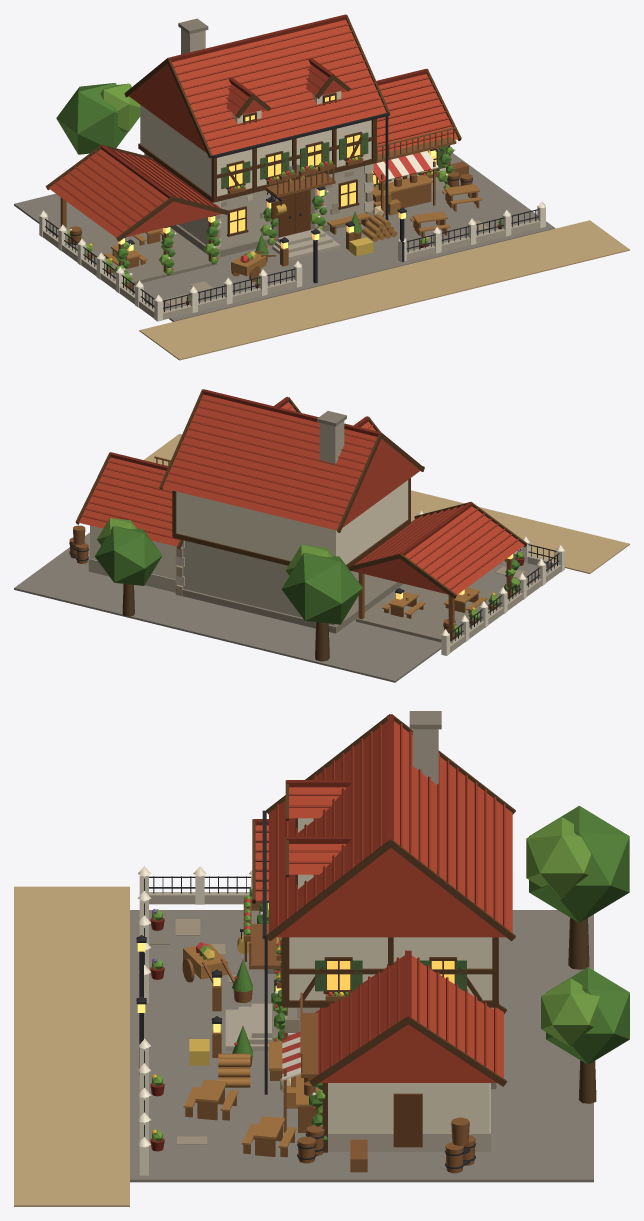
File: inn.glb
The picture shows the model from 3 angles, top to bottom: view 1: azimuth 30°, elevation 25°; view 2: azimuth 150°, elevation 25°; view 3: azimuth 270°, elevation 25°; orthographic projection. The views are drawn at different scales.
Parts seen in each view (by area): view 1: street-paving, main-roof, yard-cobbles, terrace-roof, upper-floor, tree-crown (×2), ground-floor, wing-roof, terrace-deck, door, dormer-roof (×2), main-roof-ridge (+10 smaller); view 2: main-roof, yard-cobbles, upper-floor, tree-crown (×3), terrace-roof, ground-floor, street-paving, wing-roof, main-roof-tiles (×8), terrace-deck, plinth, floor-beam (+7 smaller); view 3: yard-cobbles, street-paving, main-roof, tree-crown (×4), wing-roof, wing-walls, upper-floor, main-roof-bargeboard (×2), dormer-roof (×2), wing-base, wing-roof-bargeboard (×2), tree-trunk (×2) (+7 smaller).
Boxes of the visible parts, left/top/right/bottom form: street-paving: left=139, top=220, right=629, bottom=360; main-roof: left=129, top=20, right=386, bottom=155; yard-cobbles: left=14, top=153, right=555, bottom=321; terrace-roof: left=48, top=149, right=221, bottom=237; upper-floor: left=140, top=105, right=371, bottom=196; tree-crown (×2): left=56, top=83, right=140, bottom=154; ground-floor: left=144, top=153, right=365, bottom=249; wing-roof: left=377, top=74, right=458, bottom=154; terrace-deck: left=68, top=227, right=217, bottom=284; door: left=278, top=189, right=310, bottom=237; dormer-roof (×2): left=226, top=64, right=345, bottom=114; main-roof-ridge: left=167, top=14, right=347, bottom=61; main-roof: left=162, top=394, right=420, bottom=530; yard-cobbles: left=14, top=532, right=549, bottom=682; upper-floor: left=176, top=480, right=408, bottom=564; tree-crown (×3): left=94, top=526, right=362, bottom=624; terrace-roof: left=352, top=506, right=524, bottom=594; ground-floor: left=183, top=540, right=394, bottom=625; street-paving: left=144, top=434, right=629, bottom=573; wing-roof: left=79, top=457, right=179, bottom=546; main-roof-tiles (×8): left=165, top=427, right=362, bottom=523; terrace-deck: left=356, top=584, right=508, bottom=642; plinth: left=175, top=581, right=403, bottom=633; floor-beam: left=173, top=518, right=410, bottom=568; yard-cobbles: left=130, top=910, right=593, bottom=1182; street-paving: left=14, top=886, right=129, bottom=1206; main-roof: left=269, top=721, right=512, bottom=937; tree-crown (×4): left=526, top=805, right=629, bottom=1064; wing-roof: left=312, top=955, right=503, bottom=1082; wing-walls: left=328, top=1083, right=489, bottom=1132; upper-floor: left=289, top=937, right=492, bottom=1000; main-roof-bargeboard (×2): left=266, top=839, right=515, bottom=941; dormer-roof (×2): left=289, top=787, right=346, bottom=874; wing-base: left=328, top=1083, right=490, bottom=1151; wing-roof-bargeboard (×2): left=309, top=1016, right=506, bottom=1086; tree-trunk (×2): left=568, top=917, right=596, bottom=1103.
Bounding box in the file's own units: 26 × 10.68 × 21.25.
